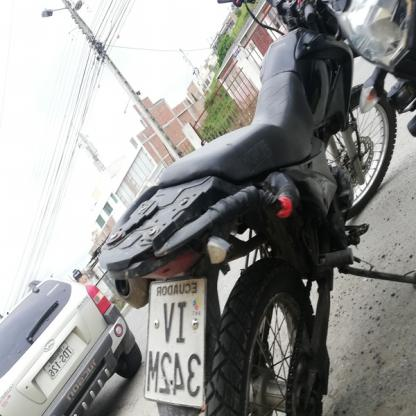Placa: (139, 276, 206, 405)
